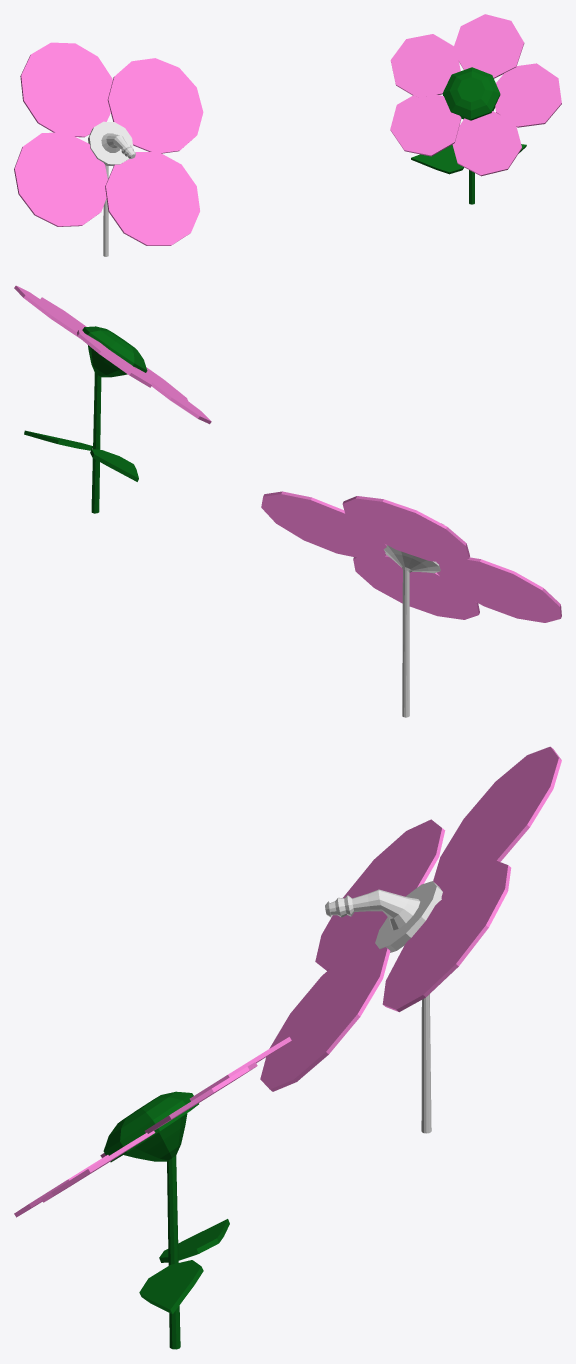
File: flores.fbx
3 renders of one model, top to bottom at view 1: azimuth 30°, elevation 25°; view 2: azimuth 150°, elevation 25°; view 3: azimuth 270°, elevation 25°, orthographic. The views are drawn at different scales.
Parts seen in each view (by area): view 1: Hojas flores 2, Hojas flores 1.001, Tallos flores 5 hojas.001, Tallo flores 4 hojas, Hojas de abajo flores 1.002; view 2: Hojas flores 2, Tallos flores 5 hojas.001, Hojas flores 1.001, Tallo flores 4 hojas, Hojas de abajo flores 1.002; view 3: Hojas flores 2, Tallos flores 5 hojas.001, Tallo flores 4 hojas, Hojas de abajo flores 1.002, Hojas flores 1.001.
Part boxes in pixels (x1,y1,x2,y2): Hojas flores 2: (14,42,203,245); Hojas flores 1.001: (390,14,561,176); Tallos flores 5 hojas.001: (443,67,500,204); Tallo flores 4 hojas: (88,121,135,256); Hojas de abajo flores 1.002: (411,144,526,174); Hojas flores 2: (261,491,561,622); Tallos flores 5 hojas.001: (82,326,147,513); Hojas flores 1.001: (14,285,211,424); Tallo flores 4 hojas: (384,523,443,717); Hojas de abajo flores 1.002: (24,430,138,481); Hojas flores 2: (260,746,561,1091); Tallos flores 5 hojas.001: (103,1091,198,1349); Tallo flores 4 hojas: (325,881,442,1133); Hojas de abajo flores 1.002: (139,1219,229,1314); Hojas flores 1.001: (14,1037,291,1217).
Size of the model in its own units: 361 by 146 by 199.
